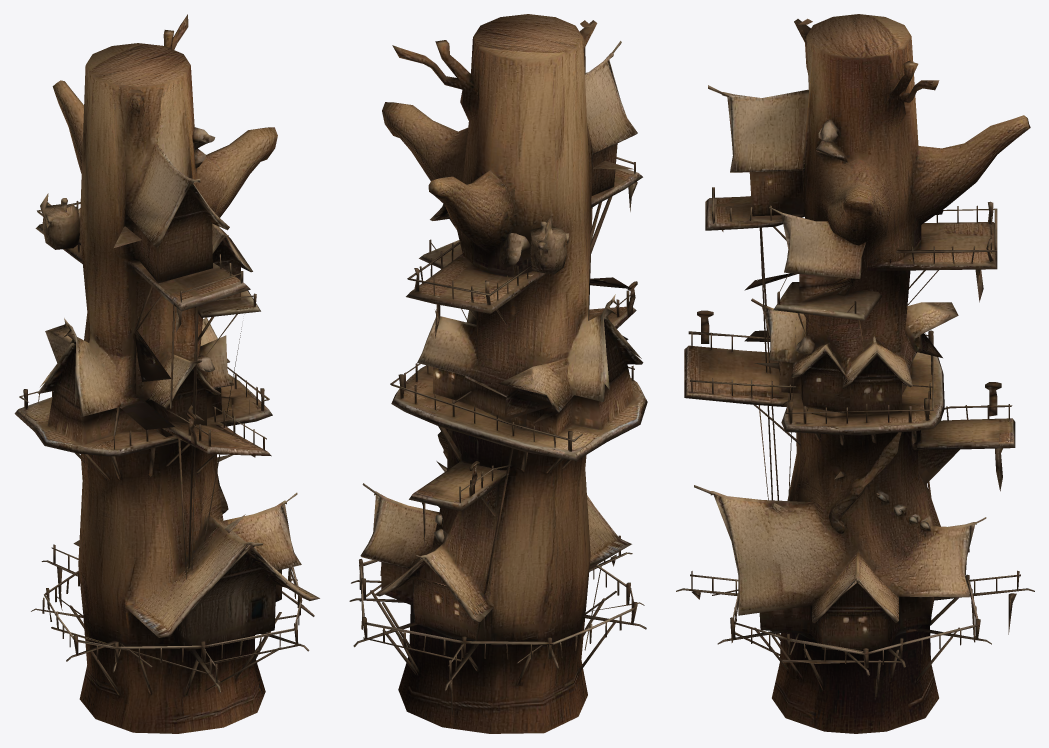
The model's file is selected.glb.
3 views of the same model, side by side, from view 1: azimuth 30°, elevation 25°; view 2: azimuth 150°, elevation 25°; view 3: azimuth 270°, elevation 25° (orthographic). The views are drawn at different scales.
Visible parts, largest first — view 1: tripo_node_ca786e38-170c-4de6-8a44-e880611d4eb3; view 2: tripo_node_ca786e38-170c-4de6-8a44-e880611d4eb3; view 3: tripo_node_ca786e38-170c-4de6-8a44-e880611d4eb3.
Part boxes in pixels (x1=…): tripo_node_ca786e38-170c-4de6-8a44-e880611d4eb3: x1=14, y1=14, x2=319, y2=733; tripo_node_ca786e38-170c-4de6-8a44-e880611d4eb3: x1=349, y1=14, x2=647, y2=733; tripo_node_ca786e38-170c-4de6-8a44-e880611d4eb3: x1=676, y1=14, x2=1034, y2=733.
Bounding box in the file's own units: 0.4316 × 0.998 × 0.5059.
1 material, 1 textured.
